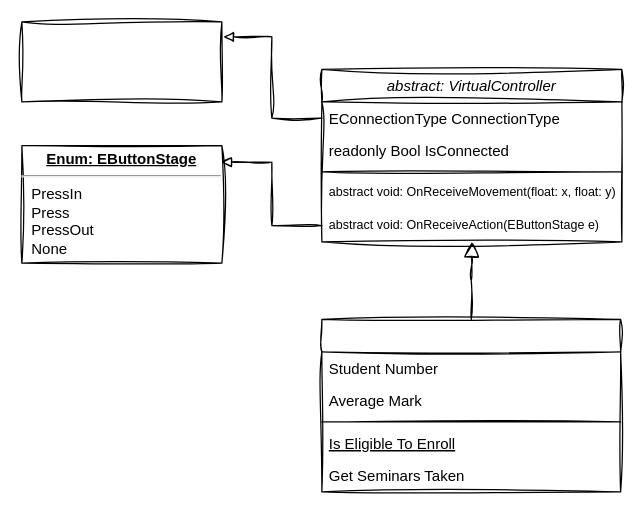
Image size: 644x518. Some labels were removed from this diagram. The box of each missing label's shape, as (x1, y1, x2, y2) in pixels:
Enum: EConnectionType Local Remote: (21, 21, 222, 102)
Player: (321, 318, 621, 492)
